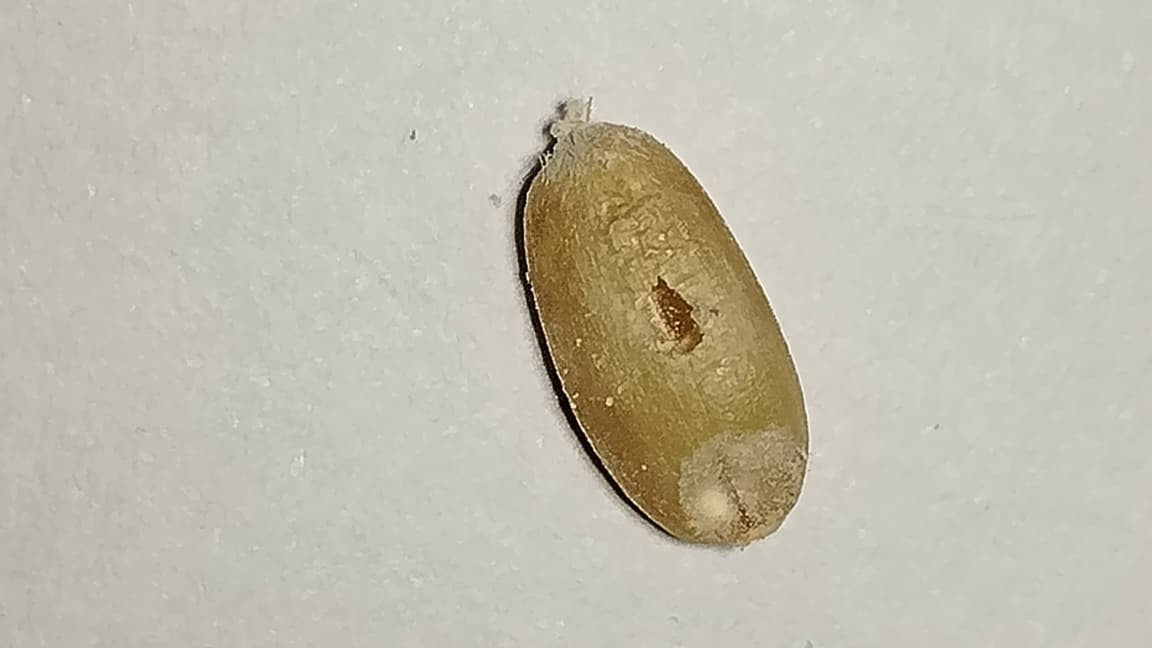damage: (521, 122, 807, 544)
insectdamage: (679, 427, 806, 544), (606, 260, 726, 372)
